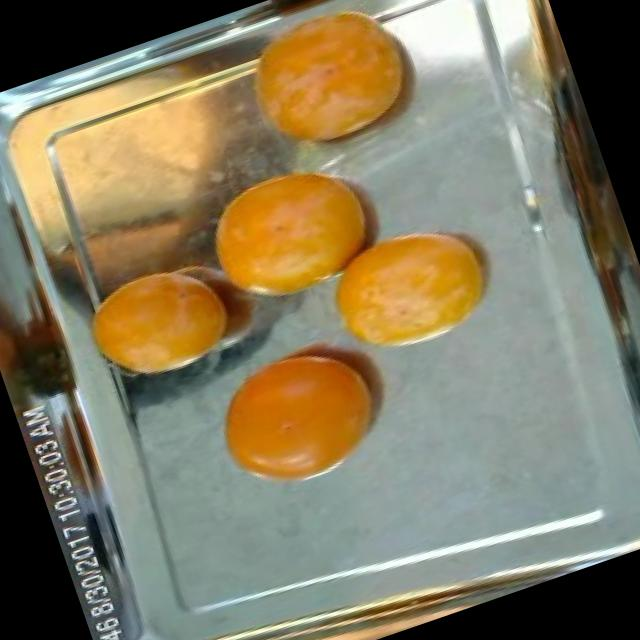Fruit: (185, 314, 424, 519), (176, 134, 412, 334), (298, 198, 526, 385), (223, 0, 447, 180), (64, 239, 257, 411)
